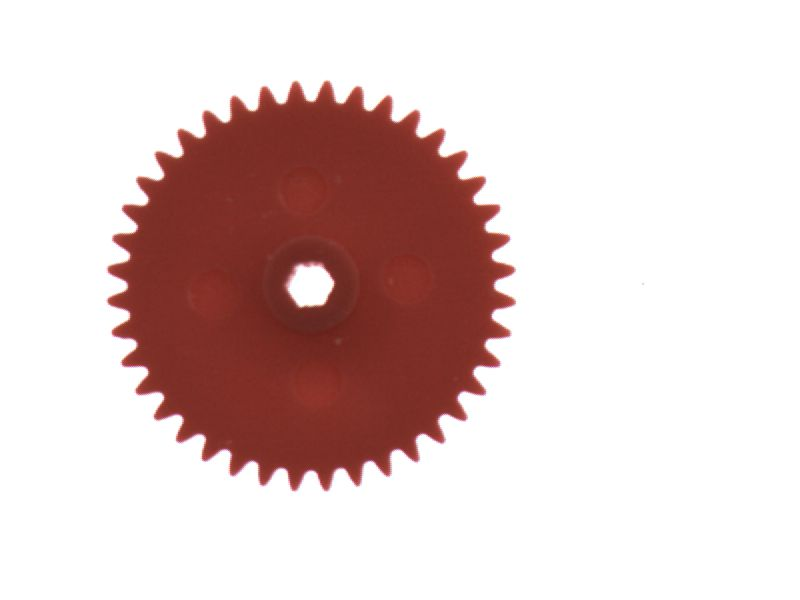good_product: (96, 66, 530, 502)
